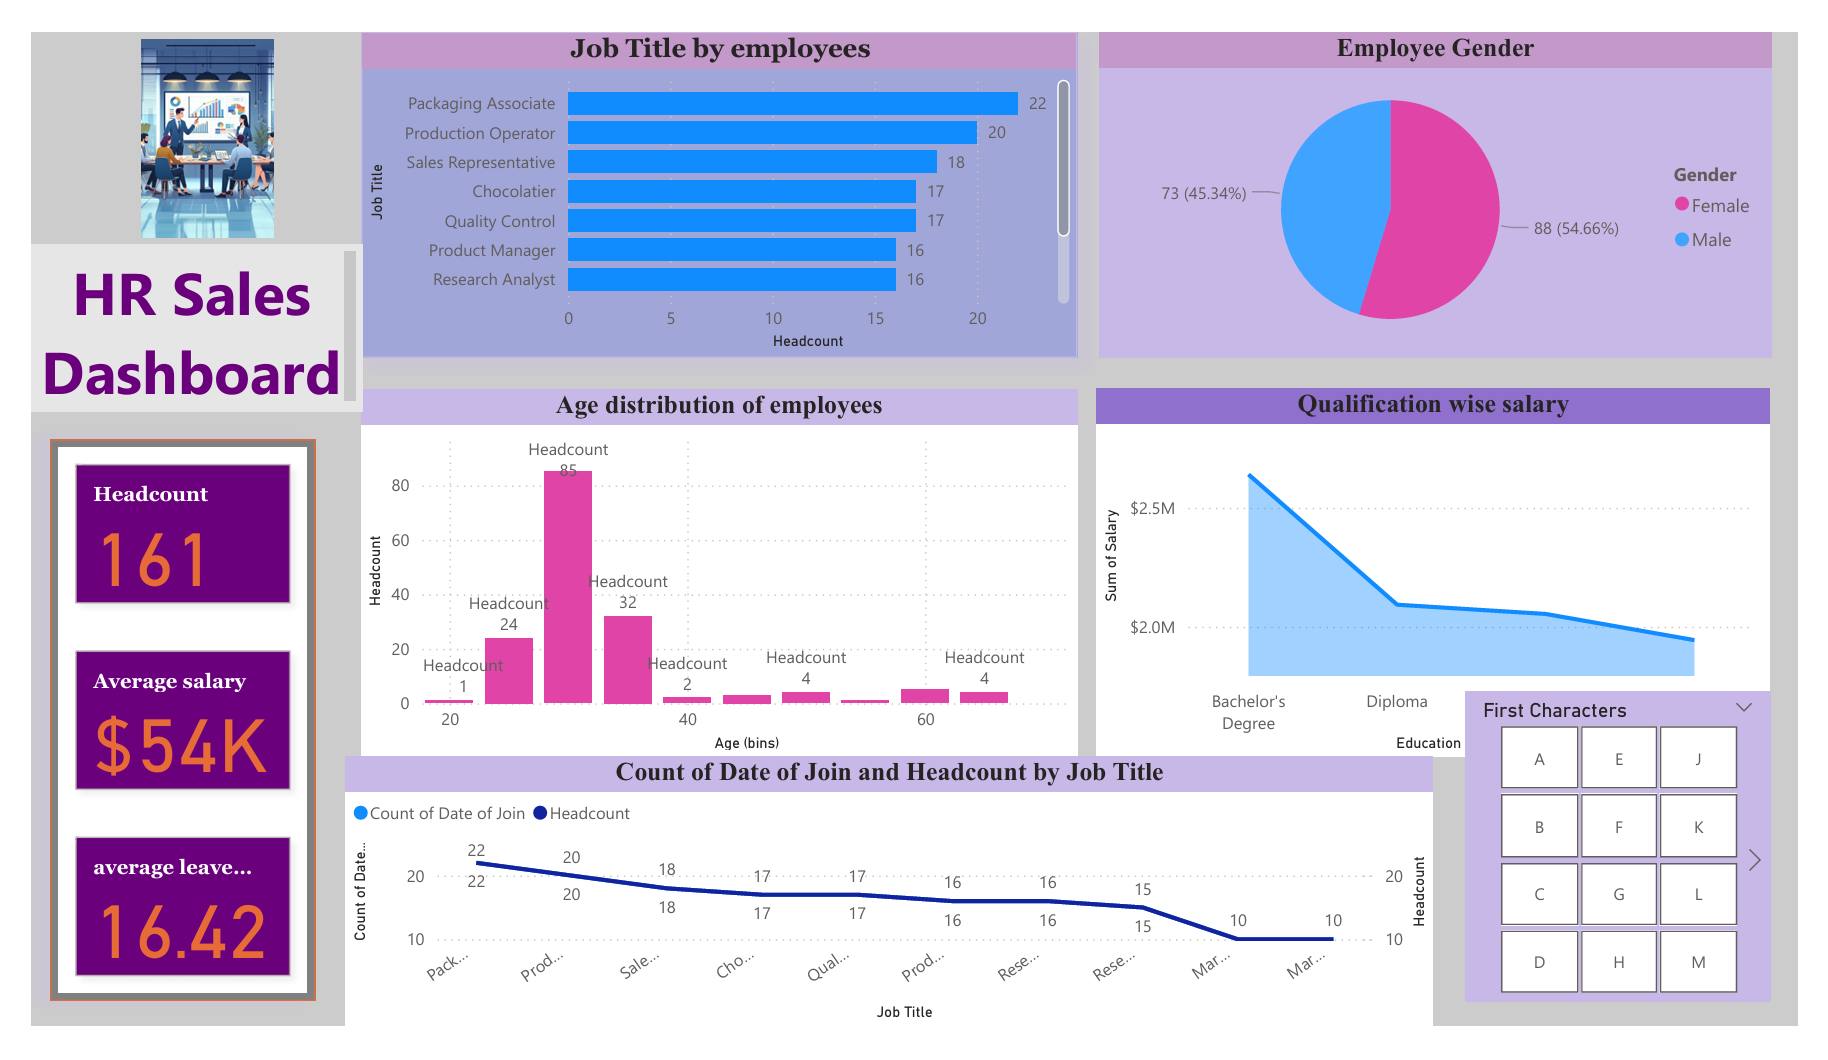

This screenshot's page, from the dashboard's own definition file:
{"tool":"powerbi","page":{"name":"HR Dashboard","canvas":[1280,720],"ordinal":0},"visuals":[{"type":"cardVisual","fields":{"Data":["data.Headcount","data.Average salary","data.average leave balance"]},"box":[14.2,294.5,192.2,407.9],"z":0},{"type":"clusteredBarChart","title":"Job Title by employees","fields":{"Category":["data.Job Title"],"Y":["data.Headcount"]},"box":[238.7,0,519.2,235.9],"z":1000},{"type":"pieChart","title":"Employee Gender","fields":{"Category":["data.Gender"],"Y":["data.Headcount"]},"box":[773.7,0,487.5,235.9],"z":2000},{"type":"columnChart","title":"Age distribution of employees","fields":{"Category":["data.Age (bins)"],"Y":["data.Headcount"]},"box":[238.7,258.9,519.2,266.1],"z":3000},{"type":"stackedAreaChart","title":"Qualification wise salary","fields":{"Category":["data.Education Qualification"],"Y":["Sum(data.Salary)"]},"box":[771.8,258.3,488.3,266.2],"z":4000},{"type":"lineChart","fields":{"Category":["data.Job Title"],"Y":["CountNonNull(data.Date of Join)"],"Y2":["data.Headcount"]},"box":[228.4,524.5,787.5,195.3],"z":4001},{"type":"slicer","fields":{"Values":["data.First Characters"]},"box":[1039,478,220.8,224.8],"z":4002},{"type":"image","box":[0,0,255.2,154.4],"z":4003},{"type":"textbox","box":[0,153.9,240.2,120.8],"z":4004}]}

Visuals, with their boxes in screenshot pixels (x1, y1, x2, y2), scaled from the page's 1280x720 canvas onto the 1828x1060 screenshot:
cardVisual - data.Headcount x data.Average salary: locate(20, 434, 295, 1034)
"Job Title by employees" clusteredBarChart: locate(341, 0, 1082, 347)
"Employee Gender" pieChart: locate(1105, 0, 1801, 347)
"Age distribution of employees" columnChart: locate(341, 381, 1082, 773)
"Qualification wise salary" stackedAreaChart: locate(1102, 380, 1800, 772)
lineChart - data.Job Title x CountNonNull(data.Date of Join): locate(326, 772, 1451, 1059)
slicer - data.First Characters: locate(1484, 704, 1799, 1035)
image: locate(0, 0, 364, 227)
textbox: locate(0, 227, 343, 404)
